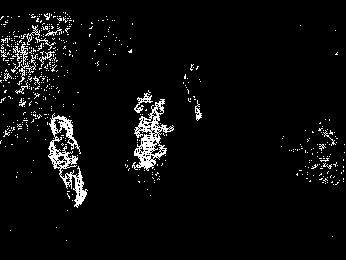person: (45, 112, 88, 211), (183, 63, 204, 123)
